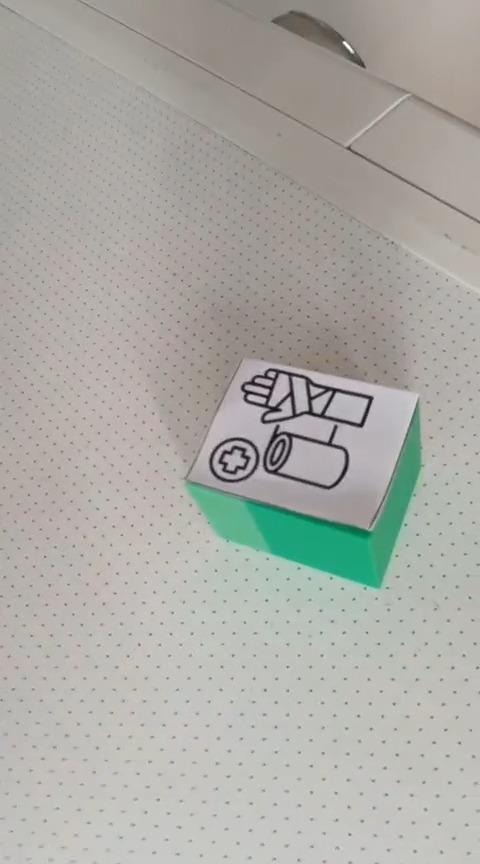Bandages: (185, 356, 419, 590)
